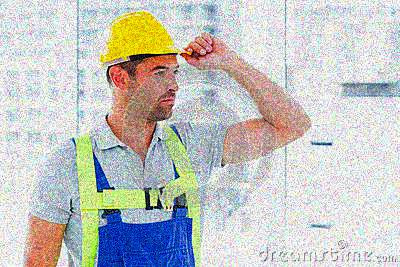helmet: (94, 9, 187, 121)
